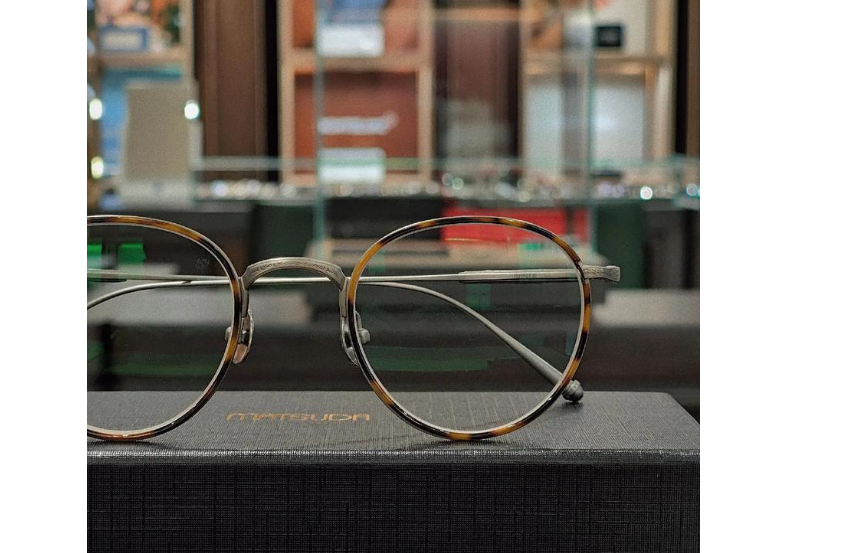glass: (76, 179, 657, 469)
